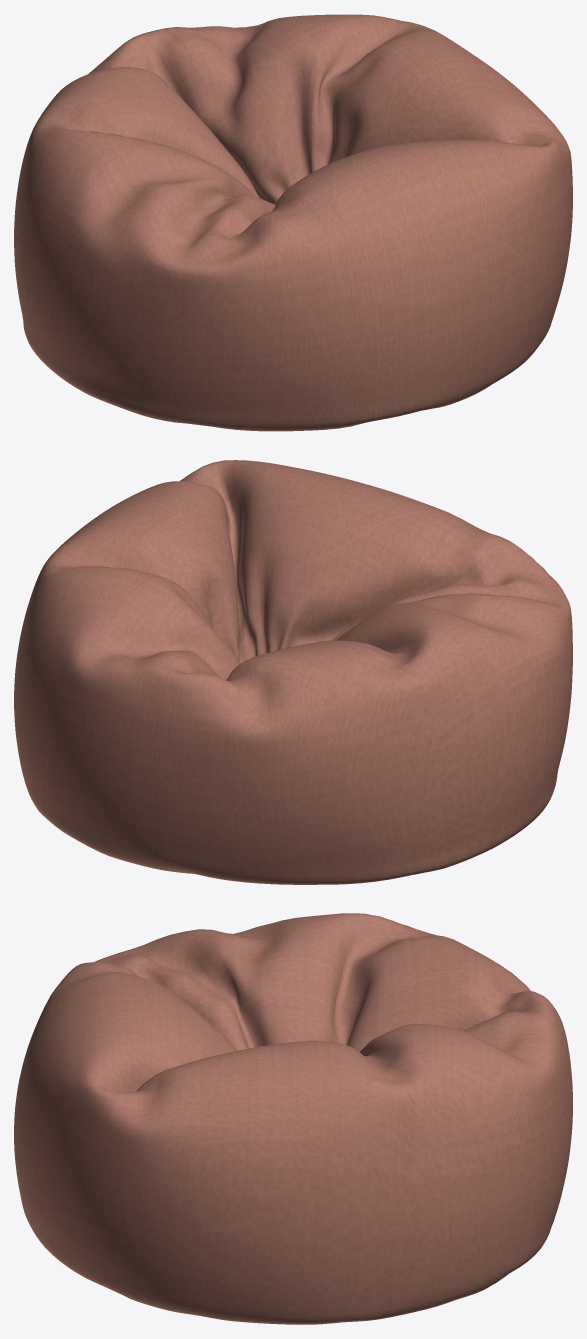
File: beanbag.fbx
The picture shows the model from 3 angles, top to bottom: view 1: azimuth 30°, elevation 25°; view 2: azimuth 150°, elevation 25°; view 3: azimuth 270°, elevation 25°; orthographic projection.
Parts seen in each view (by area): view 1: bag; view 2: bag; view 3: bag.
Part boxes in pixels (x1,y1,x2,y2): bag: [14, 14, 572, 431]; bag: [14, 460, 572, 884]; bag: [14, 913, 572, 1324].
Bounding box in the file's own units: 85 × 40 × 85.
Materials: 1 (1 with a texture image).
